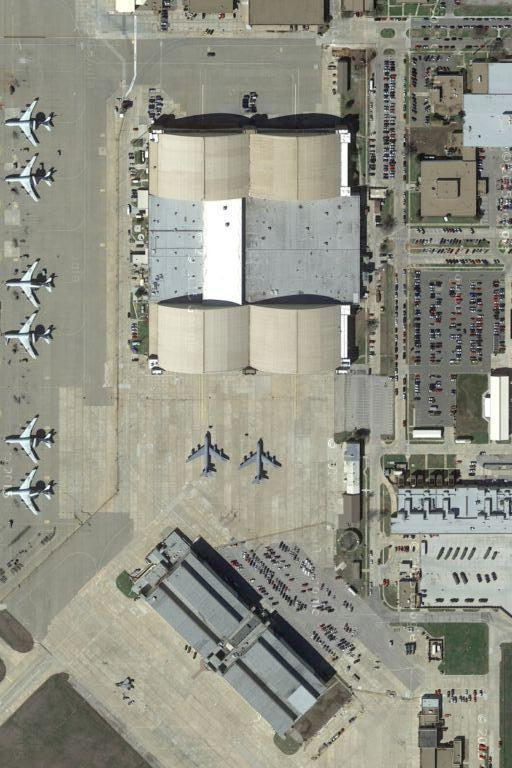E-3: (5, 465, 59, 517), (5, 412, 56, 466), (4, 310, 55, 363), (6, 152, 57, 205), (6, 257, 58, 308), (5, 96, 57, 147)
KC-135: (239, 433, 281, 486), (188, 430, 230, 478)
